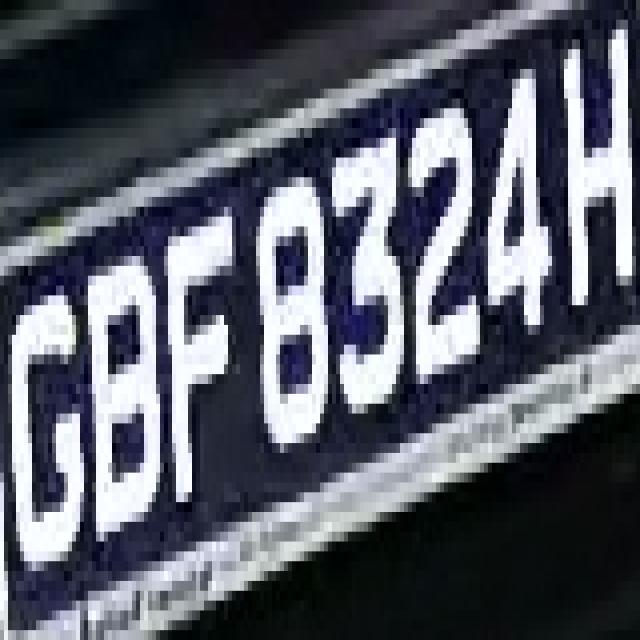2: (400, 69, 492, 413)
3: (324, 108, 412, 453)
4: (468, 20, 556, 315)
8: (240, 148, 336, 482)
B: (76, 226, 168, 552)
F: (164, 197, 252, 502)
G: (12, 256, 88, 620)
H: (552, 39, 628, 344)
